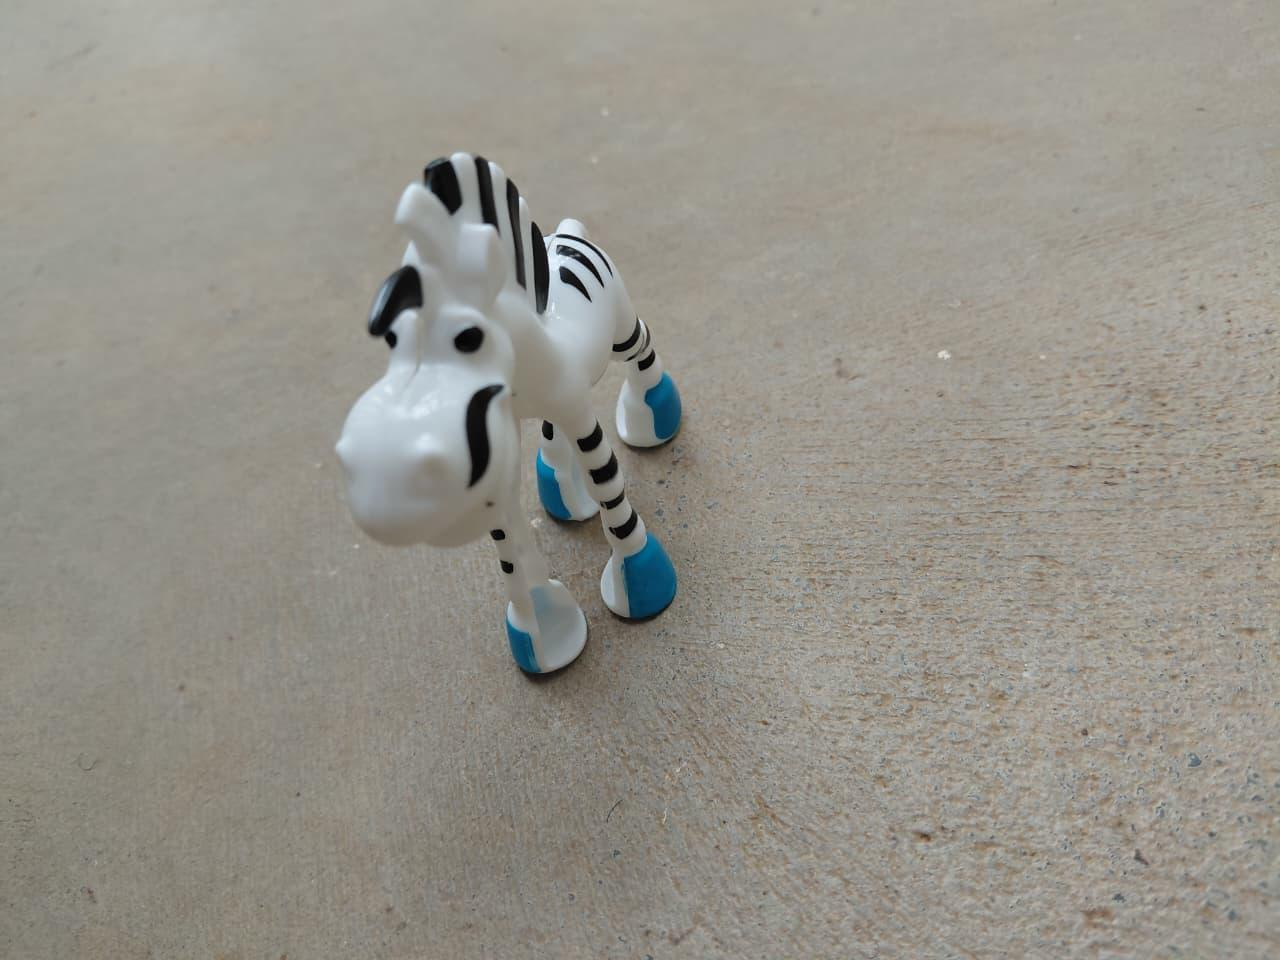zebra: (330, 140, 694, 708)
